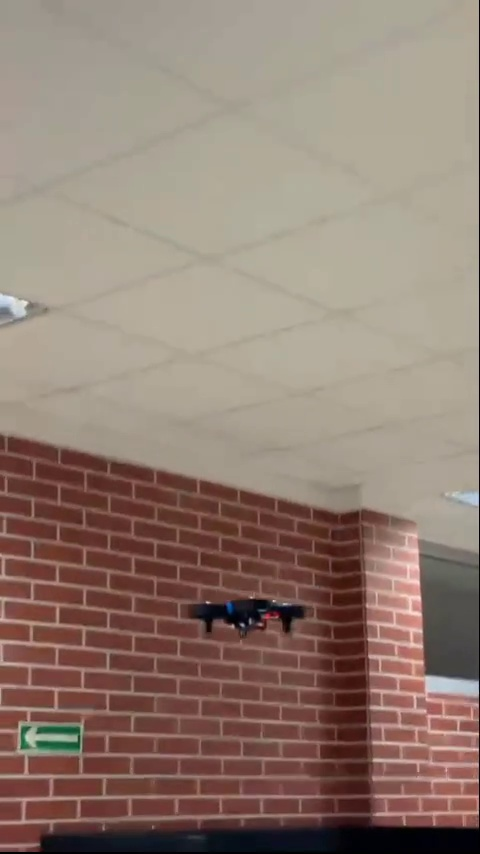drone: (188, 594, 303, 639)
